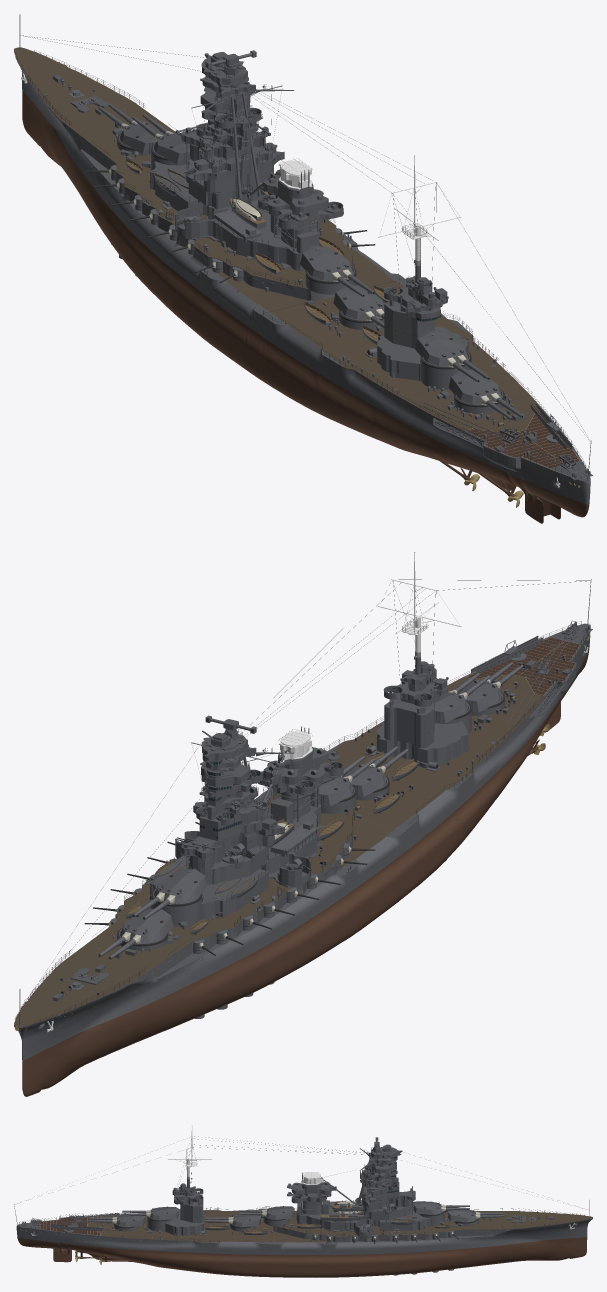
File: hyuga.glb
The picture shows the model from 3 angles, top to bottom: view 1: azimuth 30°, elevation 25°; view 2: azimuth 150°, elevation 25°; view 3: azimuth 270°, elevation 25°; orthographic projection. The views are drawn at different scales.
Visible parts, largest first — view 1: Blueprint lofted hull, pagoda-001-u1.mesh, after-tower-003.mesh, after-tower-004.mesh, funnel.mesh, main-5.yaw.mesh, main-3.yaw.mesh, main-4.yaw.mesh, main-6.yaw.mesh, aircraft-deck.mesh, deck-rails.mesh, pagoda-015.mesh (+11 smaller); view 2: Blueprint lofted hull, pagoda-001-u1.mesh, after-tower-003.mesh, after-tower-004.mesh, funnel.mesh, main-2.yaw.mesh, main-1.yaw.mesh, aircraft-deck.mesh, pagoda-015.mesh, deck-rails.mesh, mainmast.mesh, main-5.yaw.mesh (+10 smaller); view 3: Blueprint lofted hull, pagoda-001-u1.mesh, after-tower-003.mesh, funnel.mesh, after-tower-004.mesh, deck-rails.mesh, main-2.yaw.mesh, main-5.yaw.mesh, main-3.yaw.mesh, motor-boat-2.mesh, main-1.yaw.mesh, main-4.yaw.mesh (+10 smaller).
Part boxes in pixels (x1,y1,x2,y2): Blueprint lofted hull: (14,47,590,517); pagoda-001-u1.mesh: (150,161,302,268); after-tower-003.mesh: (377,326,468,380); after-tower-004.mesh: (384,302,434,348); funnel.mesh: (270,158,319,253); main-5.yaw.mesh: (415,331,469,367); main-3.yaw.mesh: (300,246,354,281); main-4.yaw.mesh: (333,285,384,320); main-6.yaw.mesh: (448,369,503,405); aircraft-deck.mesh: (419,402,581,471); deck-rails.mesh: (16,50,590,480); pagoda-015.mesh: (190,143,273,192); Blueprint lofted hull: (14,623,590,1096); pagoda-001-u1.mesh: (150,807,320,918); after-tower-003.mesh: (377,721,468,764); after-tower-004.mesh: (384,699,434,748); funnel.mesh: (270,726,319,823); main-2.yaw.mesh: (153,868,207,904); main-1.yaw.mesh: (118,908,173,944); aircraft-deck.mesh: (464,635,581,725); pagoda-015.mesh: (189,833,273,868); deck-rails.mesh: (16,621,589,1026); mainmast.mesh: (377,552,461,674); main-5.yaw.mesh: (434,691,469,723); Blueprint lofted hull: (16,1208,592,1277); pagoda-001-u1.mesh: (296,1197,430,1234); after-tower-003.mesh: (164,1208,203,1235); funnel.mesh: (297,1172,328,1214); after-tower-004.mesh: (180,1201,203,1222); deck-rails.mesh: (19,1206,584,1242); main-2.yaw.mesh: (413,1201,442,1214); main-5.yaw.mesh: (149,1206,178,1220); main-3.yaw.mesh: (265,1206,294,1219); motor-boat-2.mesh: (320,1211,365,1221); main-1.yaw.mesh: (448,1209,477,1222); main-4.yaw.mesh: (232,1214,260,1227).
Bounding box in the file's own units: 37.52 × 55.81 × 216.
Materials: 17 (11 with a texture image).
